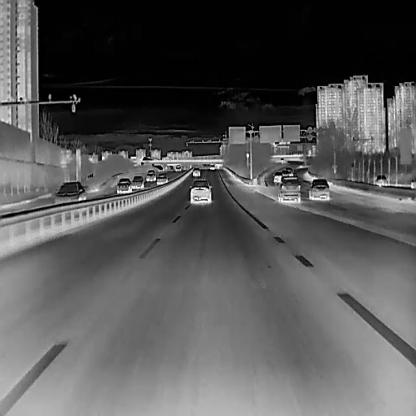car: (55, 180, 85, 202), (277, 176, 300, 202), (189, 180, 212, 202), (309, 178, 330, 199), (116, 177, 132, 193), (372, 174, 388, 185), (132, 174, 144, 188), (155, 172, 168, 184), (146, 169, 156, 180), (273, 170, 282, 182), (284, 166, 294, 176), (192, 166, 200, 176), (282, 169, 289, 177), (175, 164, 181, 171), (209, 164, 214, 169), (280, 157, 284, 162)
